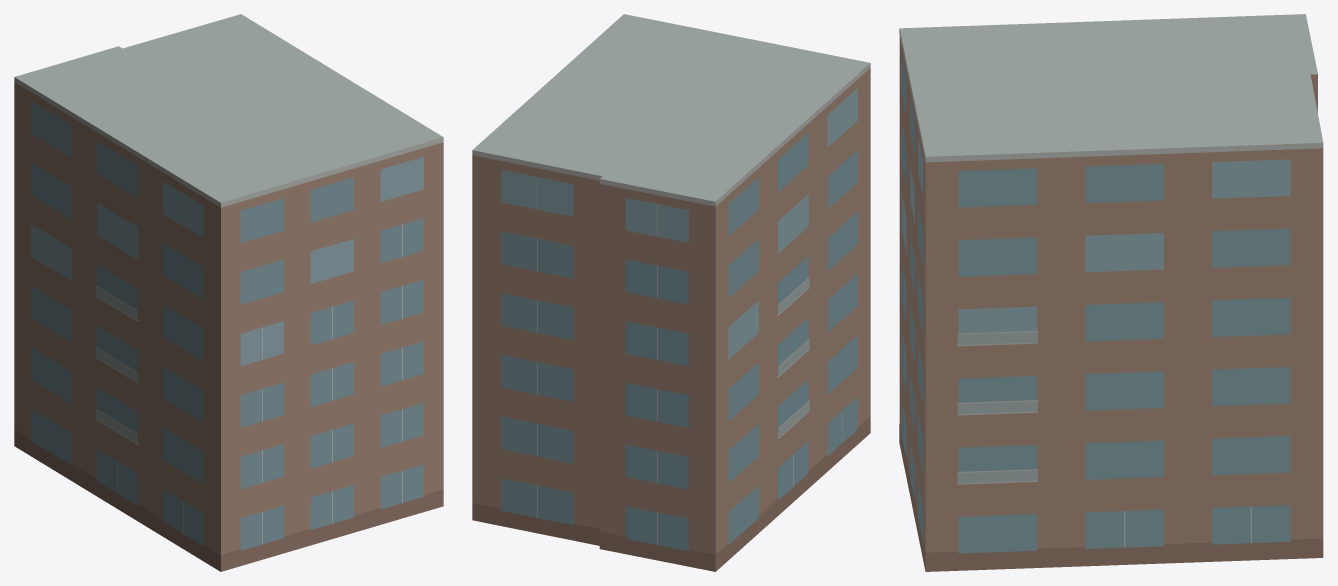
Rendered from survey-upis-32756775.glb.
3 renders of one model, left to right at view 1: azimuth 30°, elevation 25°; view 2: azimuth 150°, elevation 25°; view 3: azimuth 270°, elevation 25°, orthographic. The views are drawn at different scales.
Visible parts, largest first — view 1: survey-upis-32756775.tmp; view 2: survey-upis-32756775.tmp; view 3: survey-upis-32756775.tmp.
Boxes of the visible parts, left/top/right/bottom form: survey-upis-32756775.tmp: left=14, top=14, right=443, bottom=571; survey-upis-32756775.tmp: left=472, top=14, right=870, bottom=571; survey-upis-32756775.tmp: left=899, top=14, right=1323, bottom=571.
Size of the model in its own units: 13.52 by 18.3 by 16.95.
